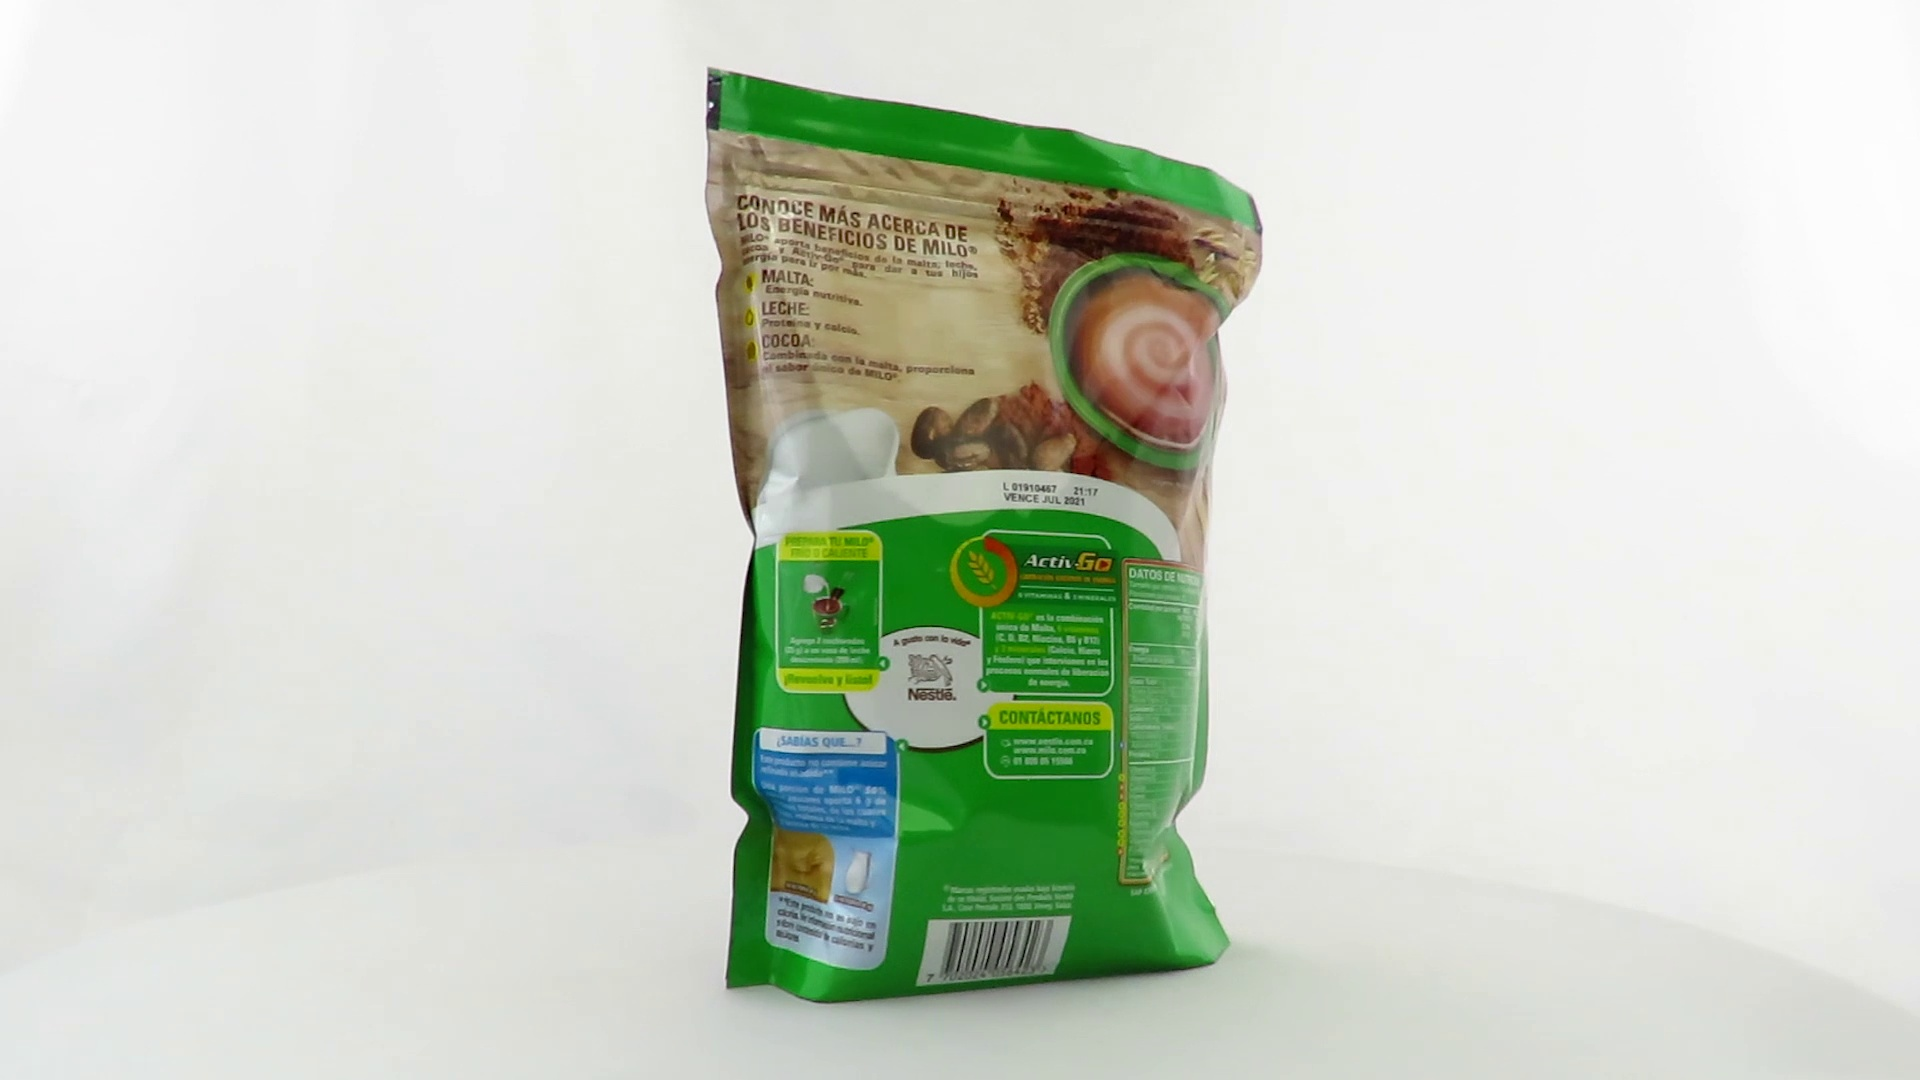COL0170205DYP50000: (699, 62, 1269, 1010)
